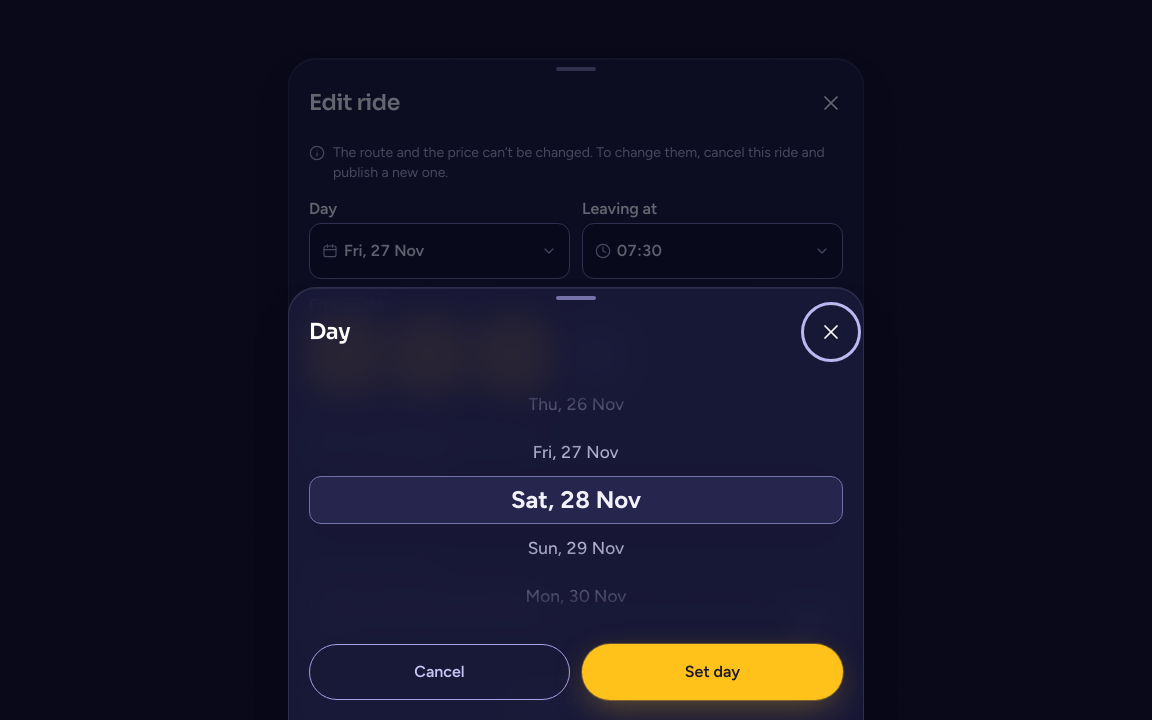
EditRideSheet › DEPARTURE_TOO_SOON -> time: shows the message inline and focuses the field
Earlier steps of the test are not shown.
(page scrolled)
Click the button "Set day".
click(712, 672)  # box [582,644,843,700]
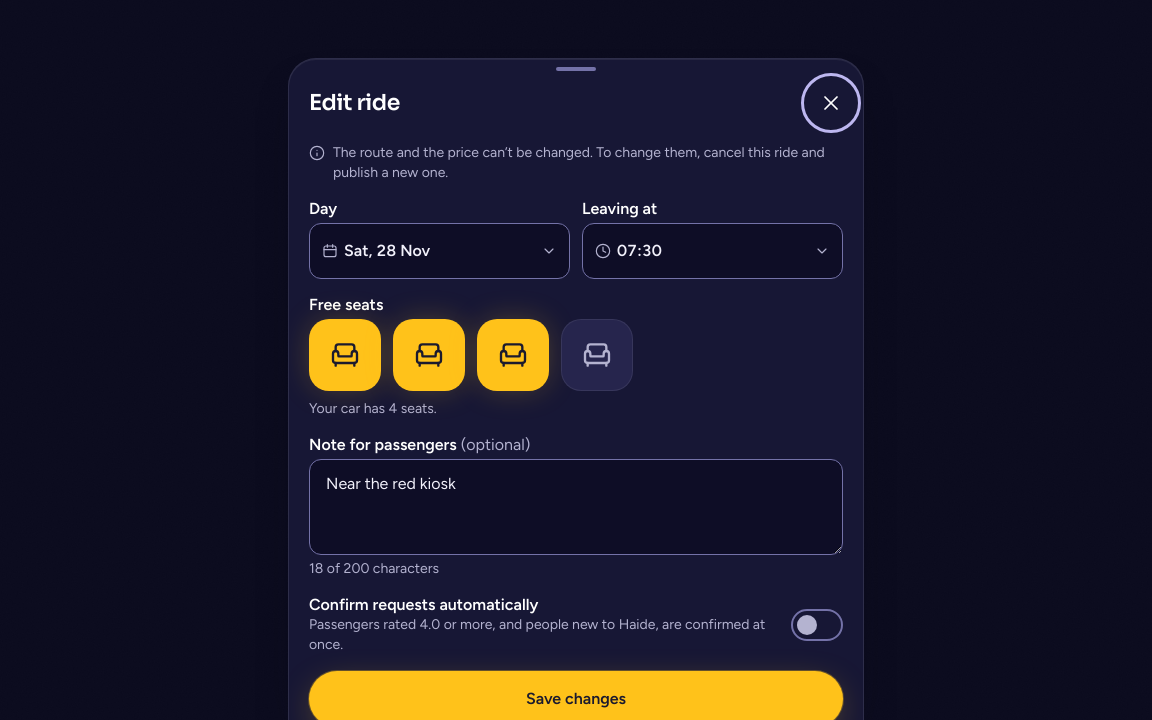
Click the radio button named "2 seats".
click(429, 355)  # box [393,319,465,391]
(page scrolled)
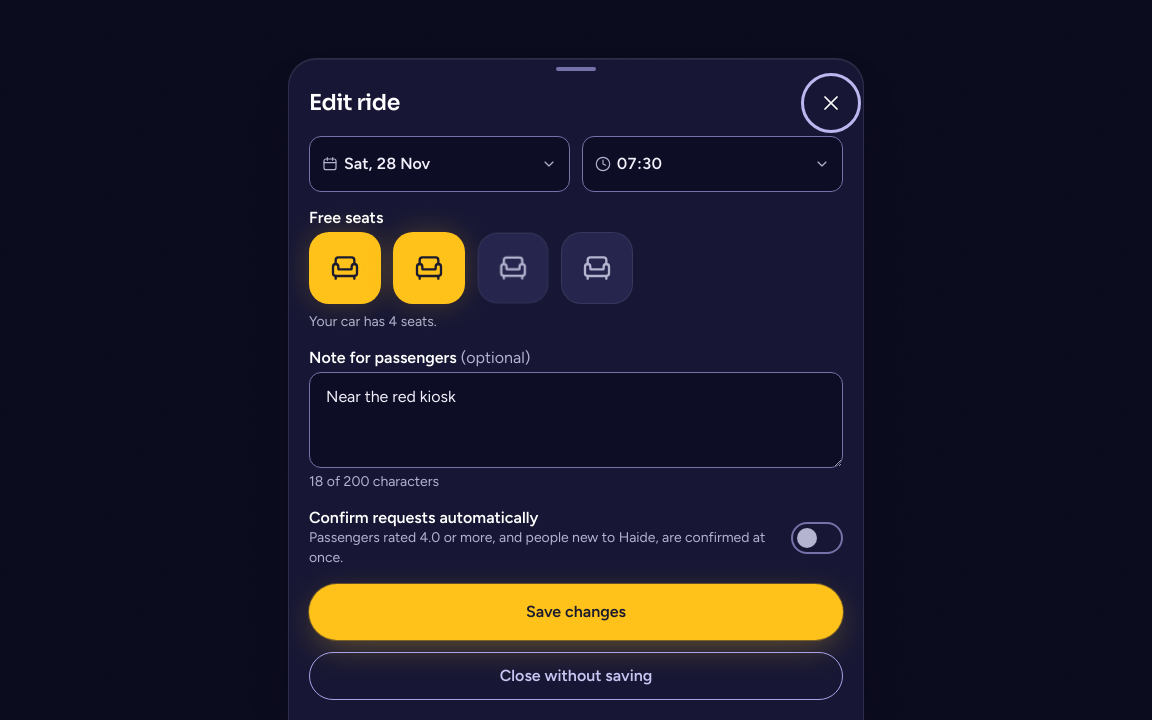
Click the button "Save changes".
click(576, 612)  # box [309,584,843,640]
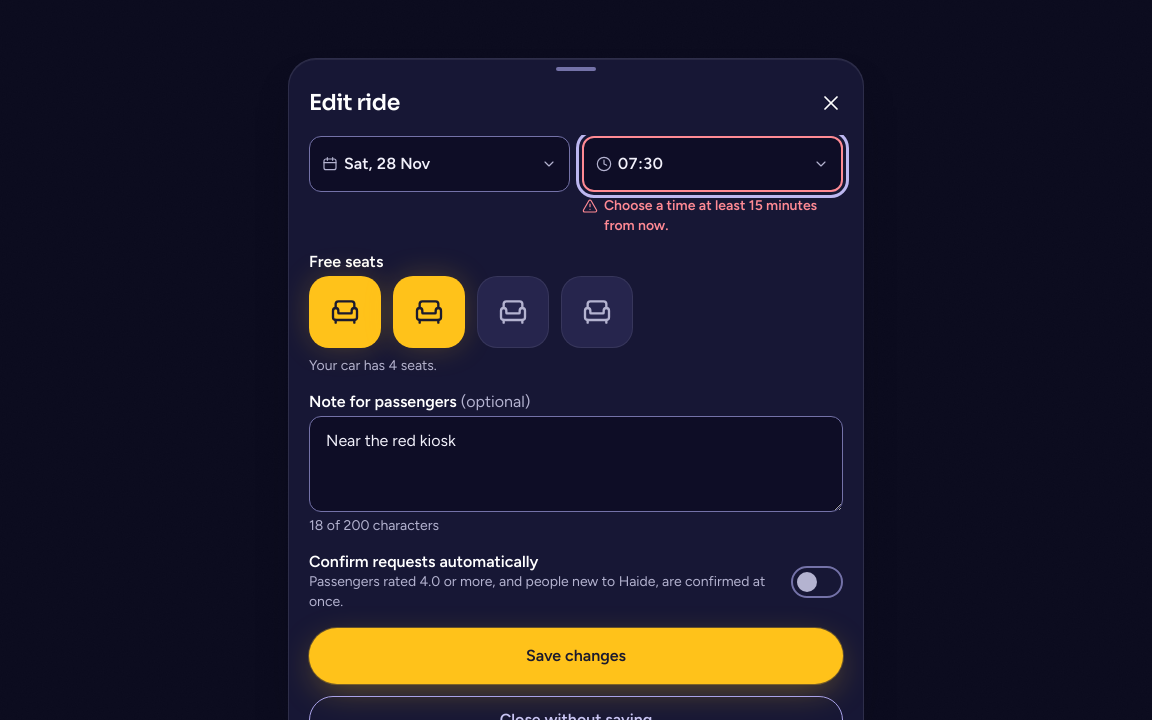
Now the message "Choose a time at least 15 minutes from now." is shown, box [582,196,843,236]
